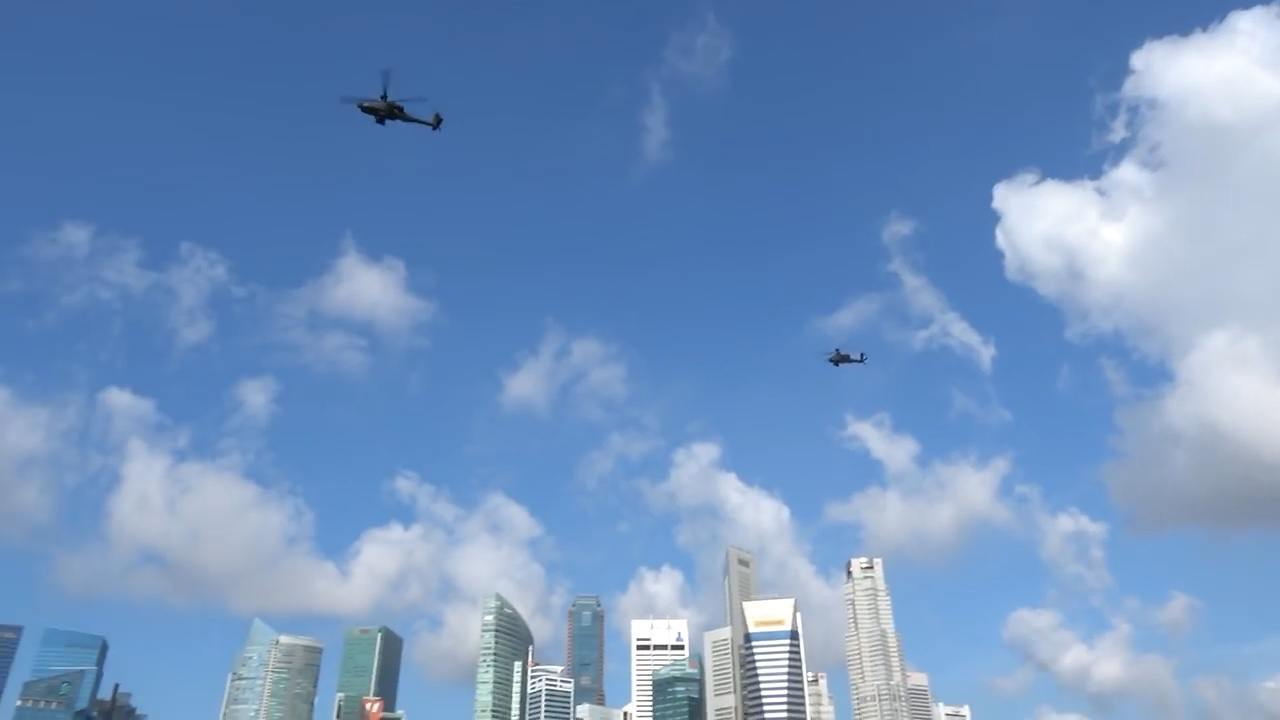ah64: (335, 67, 448, 136), (815, 335, 871, 371)
